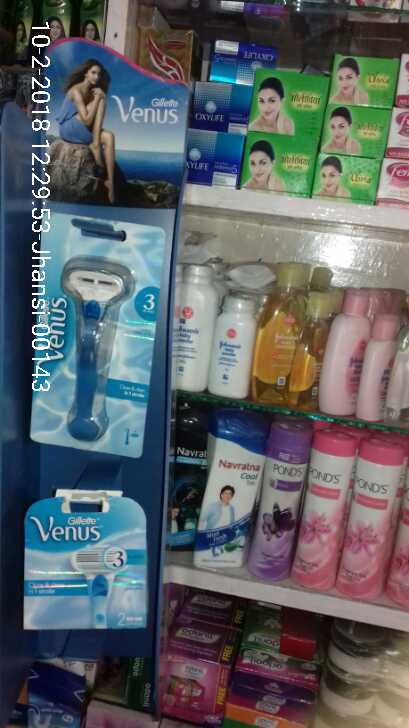venus: (33, 212, 146, 464), (21, 495, 155, 636)
